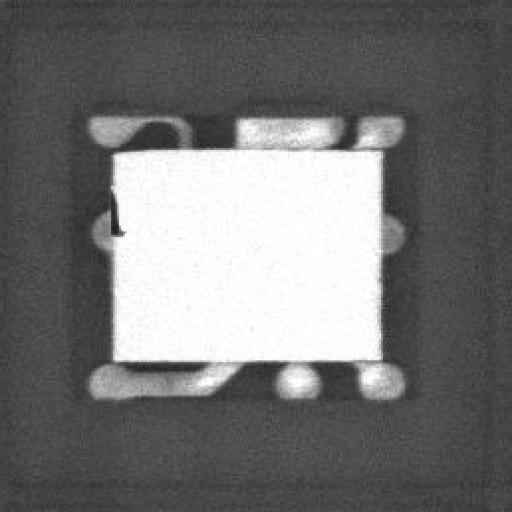DIE_BROKEN: (105, 188, 125, 239)
